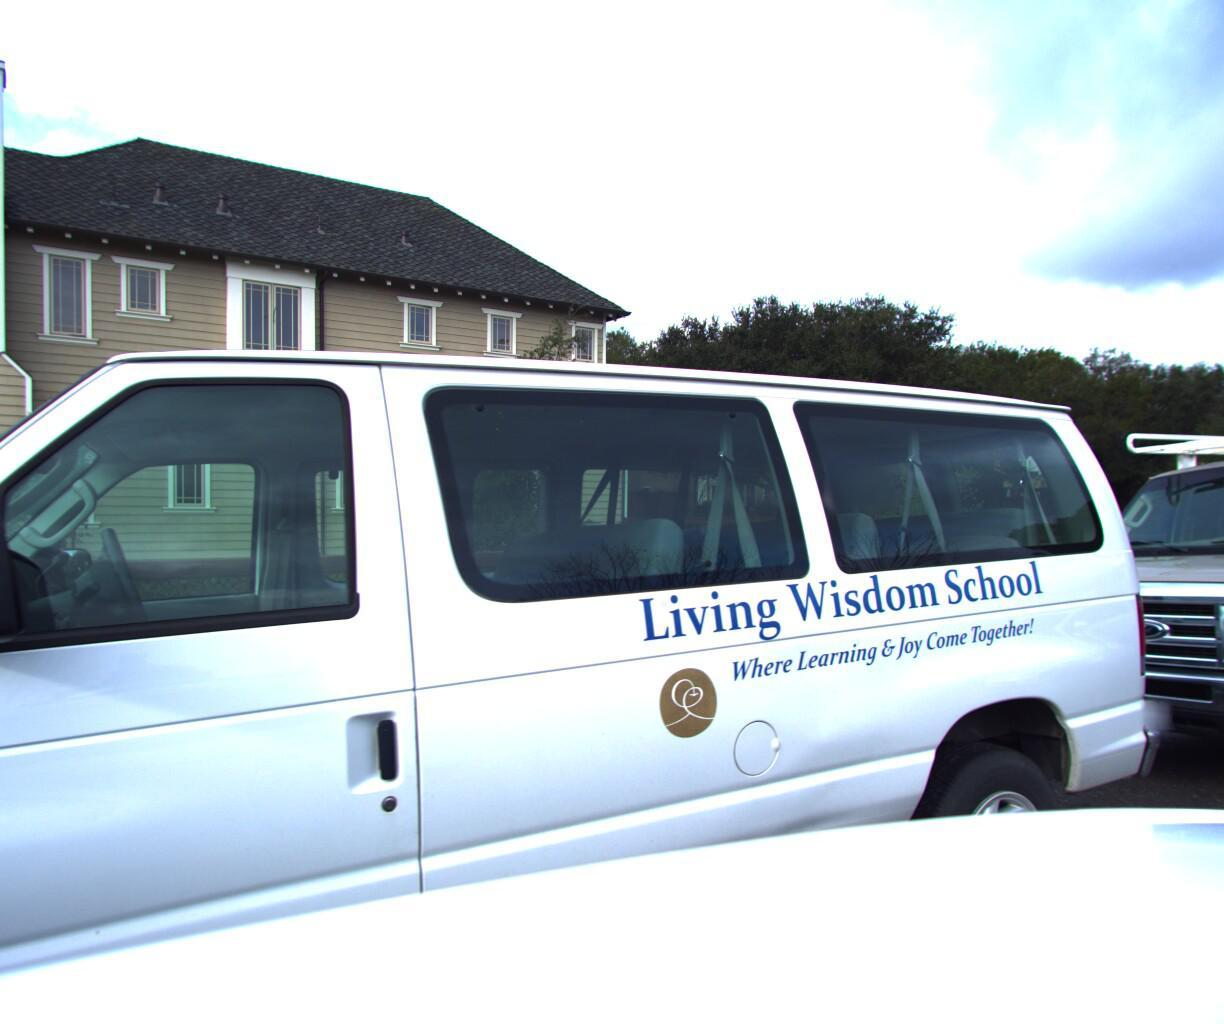car: (0, 0, 1175, 1024), (972, 347, 1224, 827)
